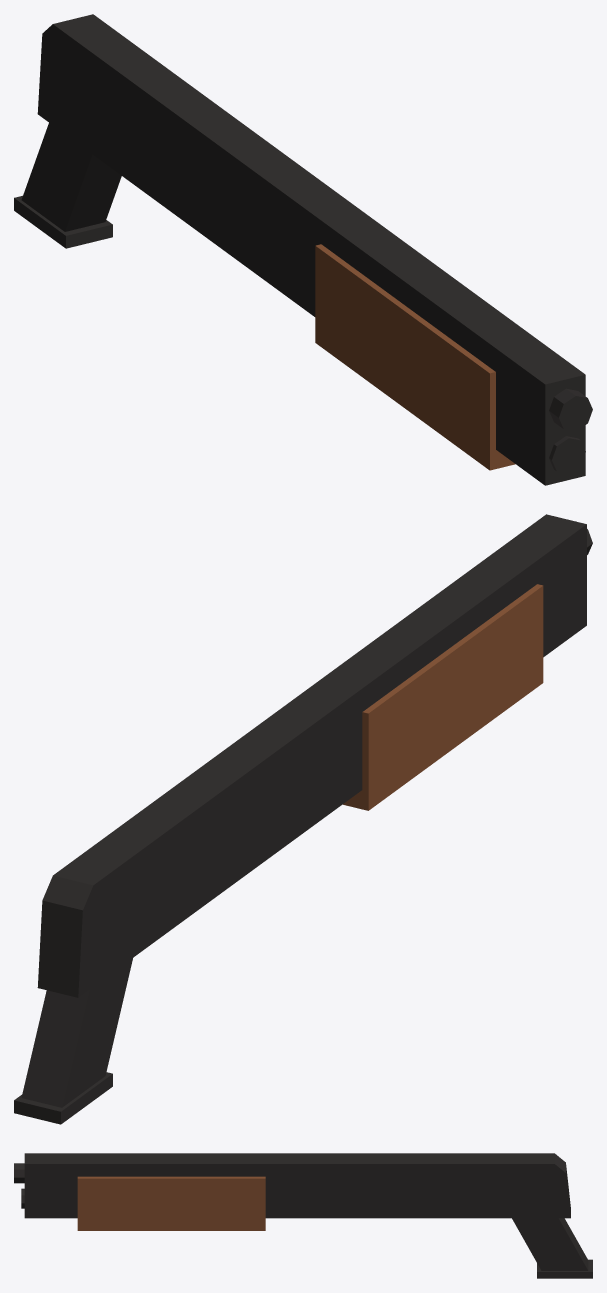
Rendered from ShortGun.fbx.
3 views of the same model, one above another, from view 1: azimuth 30°, elevation 25°; view 2: azimuth 150°, elevation 25°; view 3: azimuth 270°, elevation 25° (orthographic). The views are drawn at different scales.
Parts seen in each view (by area): view 1: Pistol.001; view 2: Pistol.001; view 3: Pistol.001.
Part boxes in pixels (box(x1,y1,x2,y2)): Pistol.001: box(14, 14, 592, 485); Pistol.001: box(14, 514, 592, 1124); Pistol.001: box(14, 1153, 592, 1278).
Bounding box in the file's own units: 4.59 × 17.1 × 78.67.
